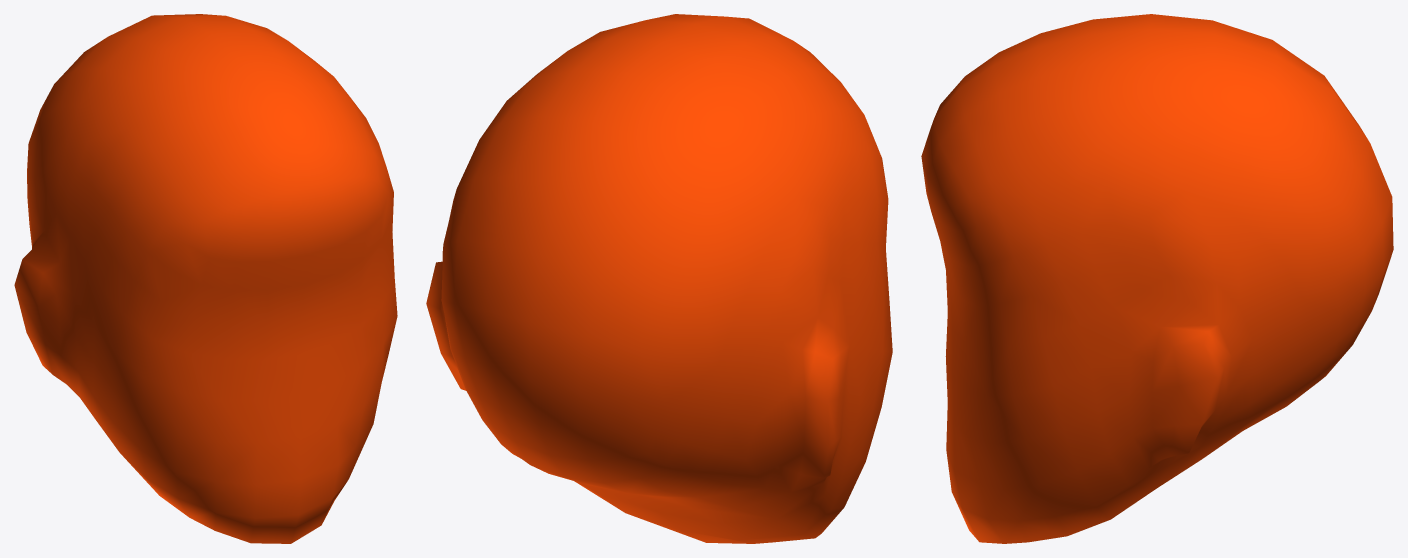
File: headOccluder.gltf
3 views of the same model, side by side, from view 1: azimuth 30°, elevation 25°; view 2: azimuth 150°, elevation 25°; view 3: azimuth 270°, elevation 25° (orthographic). The views are drawn at different scales.
Parts seen in each view (by area): view 1: Model; view 2: Model; view 3: Model.
Part boxes in pixels (x1,y1,x2,y2): Model: (14, 14, 397, 543); Model: (426, 14, 892, 543); Model: (921, 14, 1393, 543).
Bounding box in the file's own units: 16.88 × 22.04 × 18.82.
